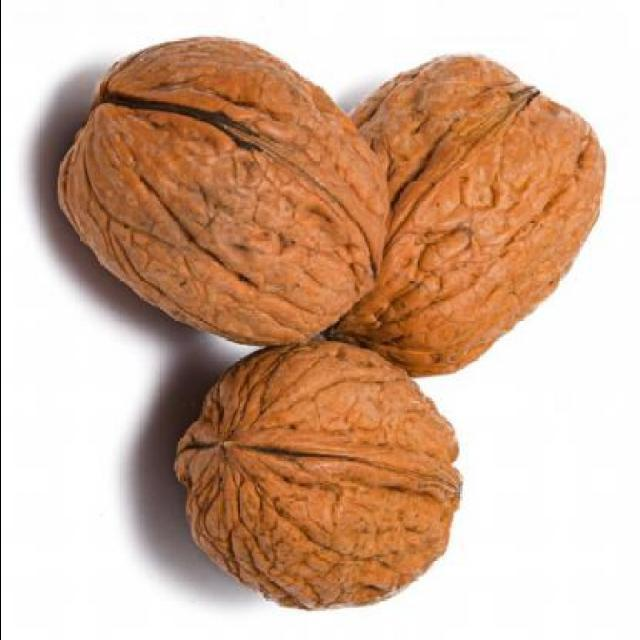Frutta secca: (57, 39, 397, 359), (165, 346, 463, 630)
